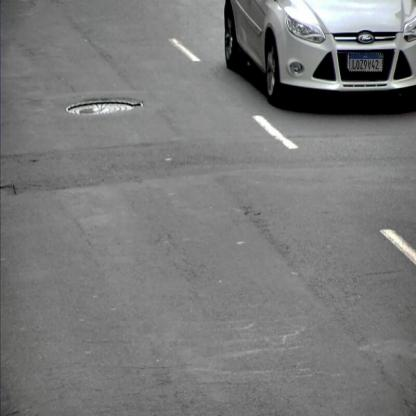PlacaM: (349, 53, 383, 72)
